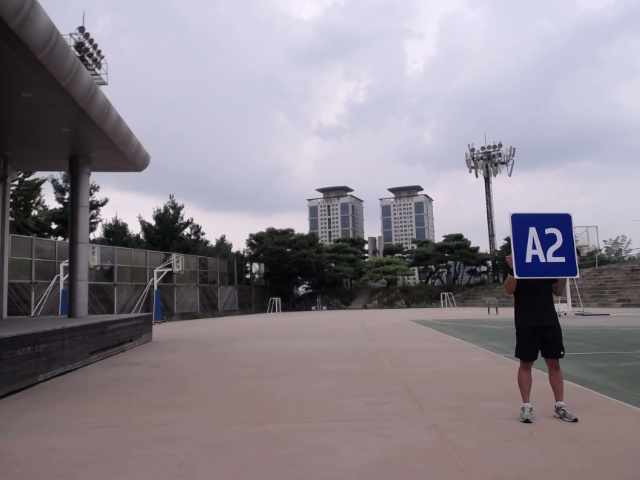delivery_a2: (509, 212, 578, 279)
